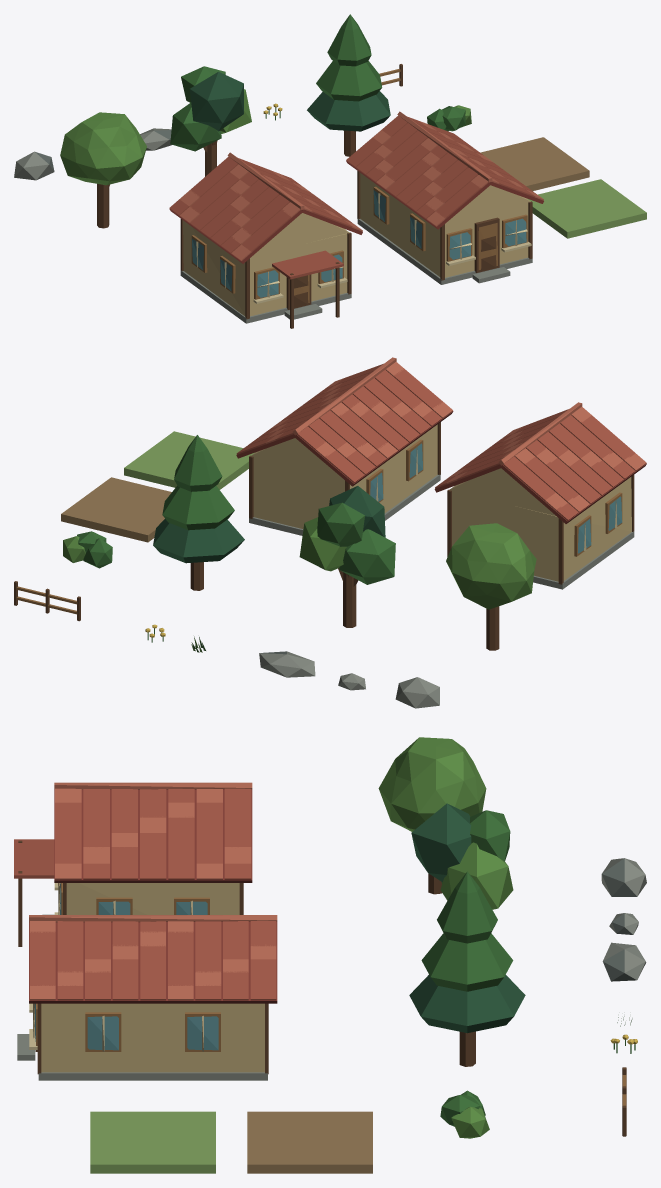
Rendered from riverside-diorama-kit-low.glb.
The picture shows the model from 3 angles, top to bottom: view 1: azimuth 30°, elevation 25°; view 2: azimuth 150°, elevation 25°; view 3: azimuth 270°, elevation 25°; orthographic projection. The views are drawn at different scales.
Visible parts, largest first — view 1: GEO-RD-house-gable, GEO-RD-house-long, GEO-RD-tree-pine, GEO-RD-tree-round, GEO-RD-tree-cluster, GEO-RD-ground-grass, GEO-RD-ground-earth, GEO-RD-rock-1, GEO-RD-shrub, GEO-RD-rock-3; view 2: GEO-RD-house-long, GEO-RD-house-gable, GEO-RD-tree-pine, GEO-RD-tree-cluster, GEO-RD-tree-round, GEO-RD-ground-earth, GEO-RD-ground-grass, GEO-RD-shrub, GEO-RD-rock-3, GEO-RD-rock-1, GEO-RD-fence-3m; view 3: GEO-RD-house-long, GEO-RD-house-gable, GEO-RD-tree-pine, GEO-RD-ground-grass, GEO-RD-ground-earth, GEO-RD-tree-round, GEO-RD-tree-cluster, GEO-RD-shrub, GEO-RD-rock-1, GEO-RD-rock-3.
Boxes of the visible parts, box(x1,y1,x2,y2) form: GEO-RD-house-gable: box(169, 152, 362, 328); GEO-RD-house-long: box(346, 111, 543, 284); GEO-RD-tree-pine: box(307, 14, 390, 156); GEO-RD-tree-round: box(60, 112, 146, 228); GEO-RD-tree-cluster: box(170, 66, 251, 176); GEO-RD-ground-grass: box(527, 179, 646, 238); GEO-RD-ground-earth: box(480, 137, 589, 190); GEO-RD-rock-1: box(14, 151, 54, 180); GEO-RD-shrub: box(427, 105, 471, 131); GEO-RD-rock-3: box(140, 128, 172, 150); GEO-RD-house-long: box(236, 357, 453, 535); GEO-RD-house-gable: box(434, 402, 646, 589); GEO-RD-tree-pine: box(153, 435, 244, 590); GEO-RD-tree-cluster: box(299, 486, 395, 627); GEO-RD-tree-round: box(446, 523, 536, 650); GEO-RD-ground-earth: box(61, 477, 171, 542); GEO-RD-ground-grass: box(124, 431, 254, 489); GEO-RD-shrub: box(63, 531, 112, 568); GEO-RD-rock-3: box(259, 651, 315, 677); GEO-RD-rock-1: box(395, 677, 439, 708); GEO-RD-fence-3m: box(14, 581, 80, 621); GEO-RD-house-long: box(17, 915, 277, 1080); GEO-RD-house-gable: box(14, 782, 252, 946); GEO-RD-tree-pine: box(409, 871, 525, 1066); GEO-RD-ground-grass: box(90, 1111, 215, 1173); GEO-RD-ground-earth: box(247, 1111, 372, 1173); GEO-RD-tree-round: box(378, 737, 486, 894); GEO-RD-tree-cluster: box(411, 803, 513, 909); GEO-RD-shrub: box(440, 1090, 489, 1138); GEO-RD-rock-1: box(601, 858, 646, 896); GEO-RD-rock-3: box(602, 942, 646, 981).
Size of the model in its own units: 22.86 by 6.94 by 20.14.
